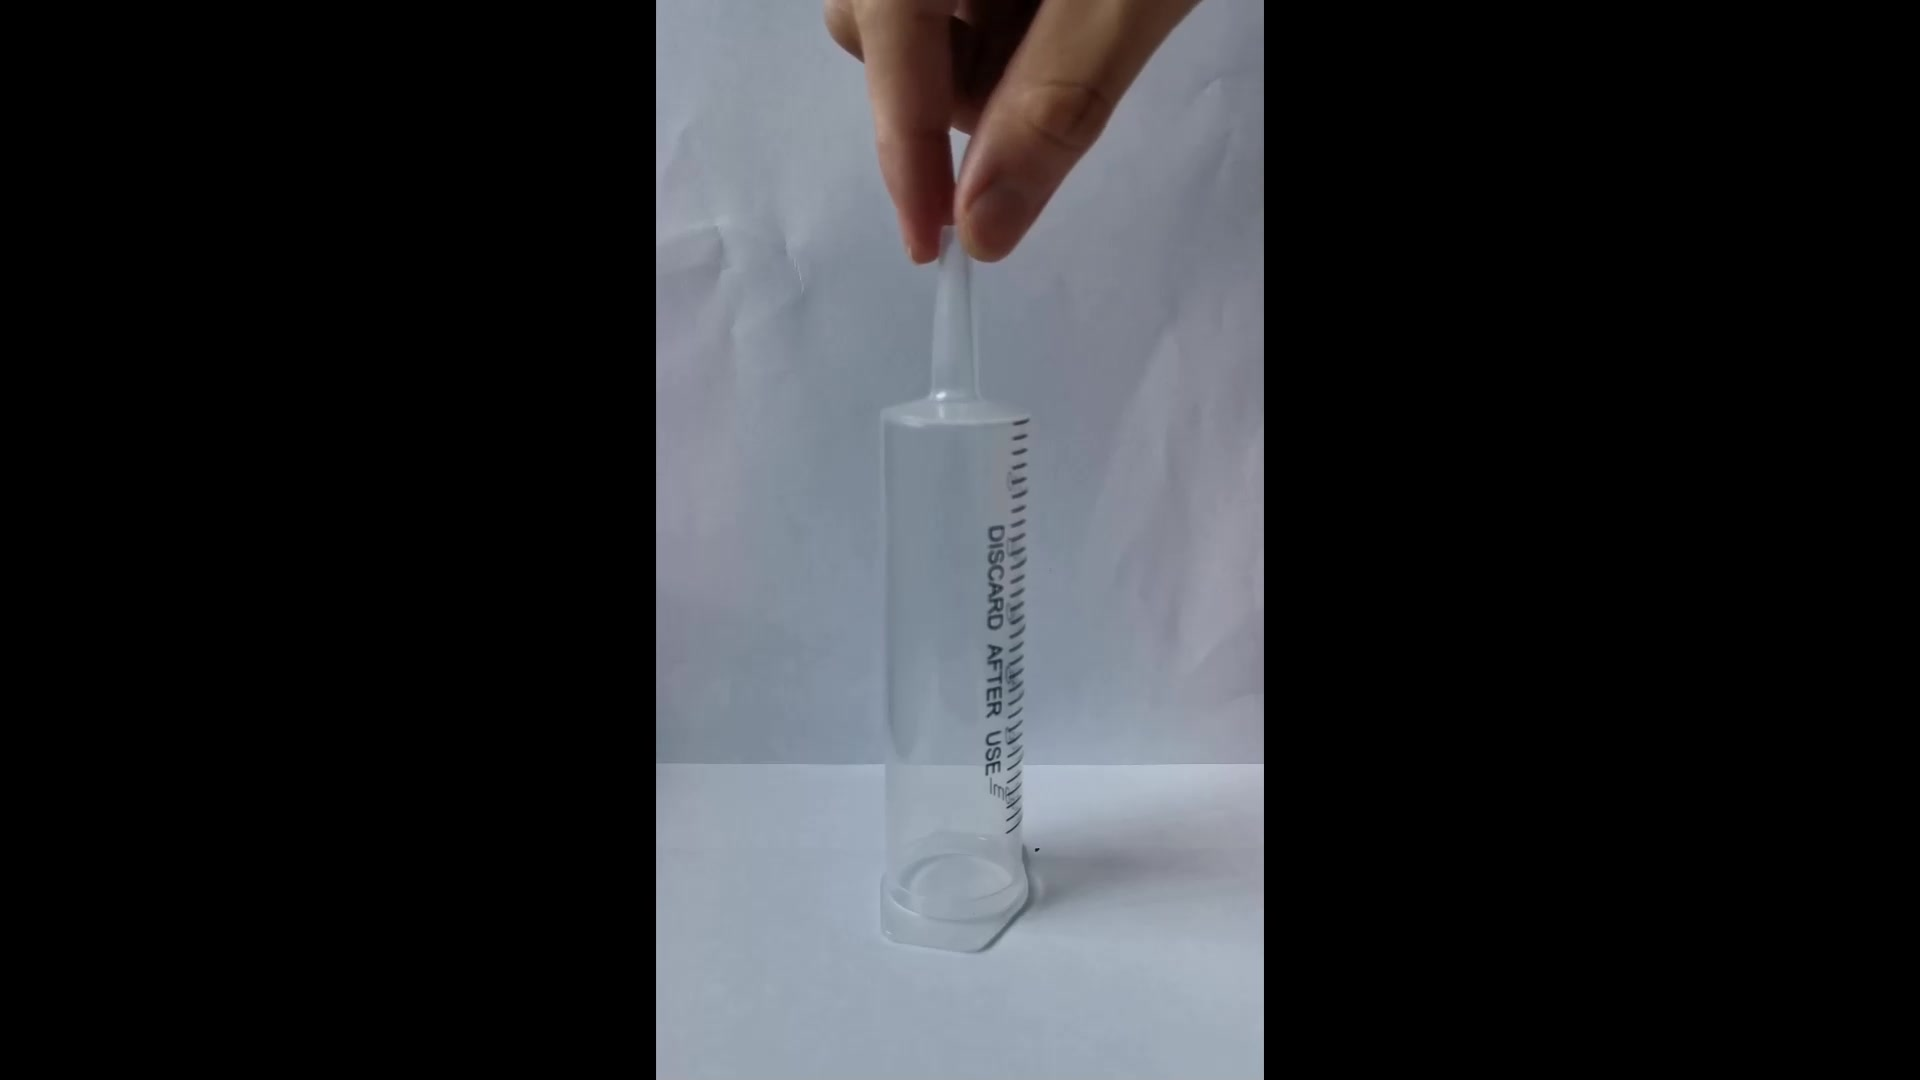syringe: (862, 258, 1047, 963)
